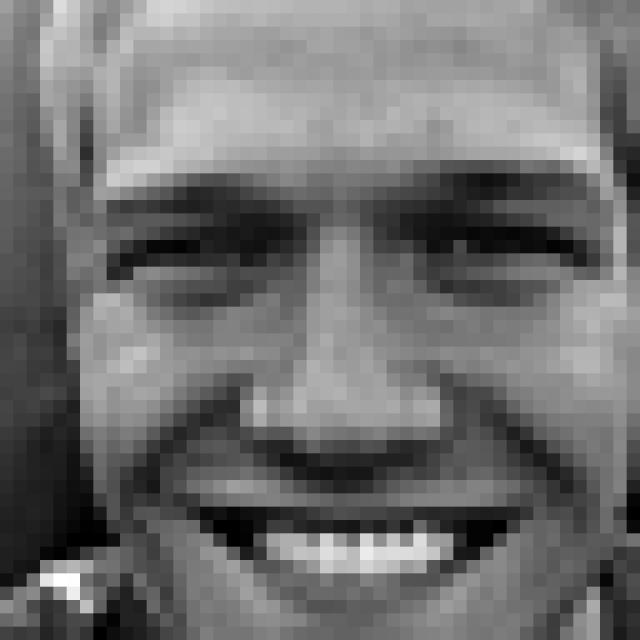happy: (88, 152, 606, 621)
